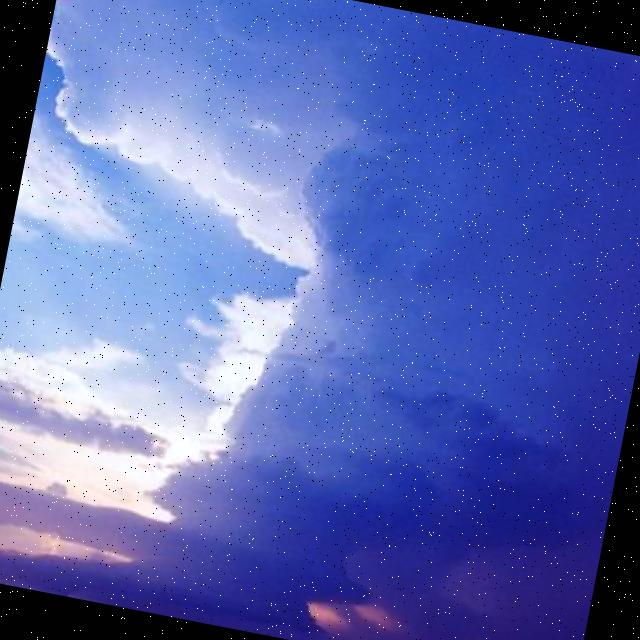Cb: (1, 1, 640, 639)
